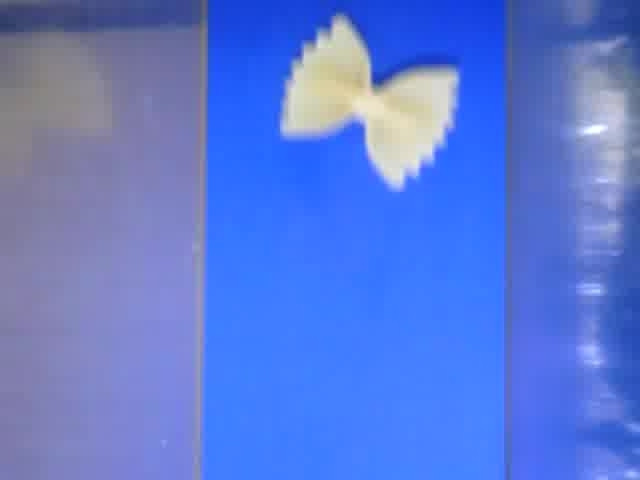farfalle: (278, 13, 461, 191)
